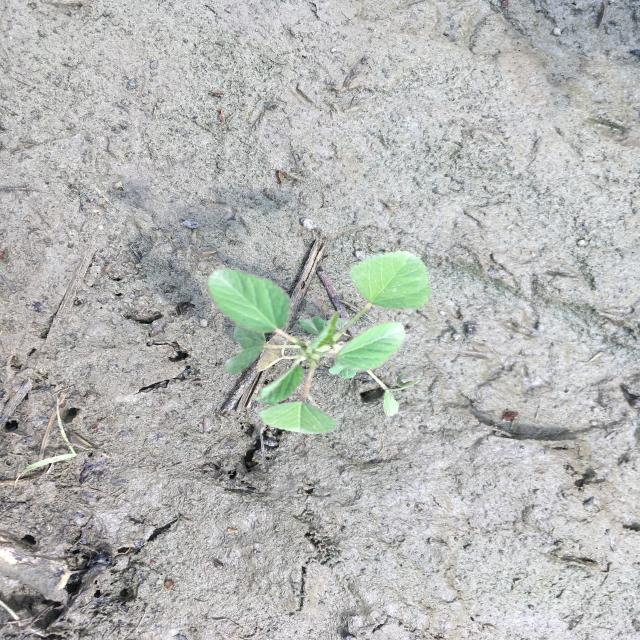PricklySida: (204, 248, 436, 438)
